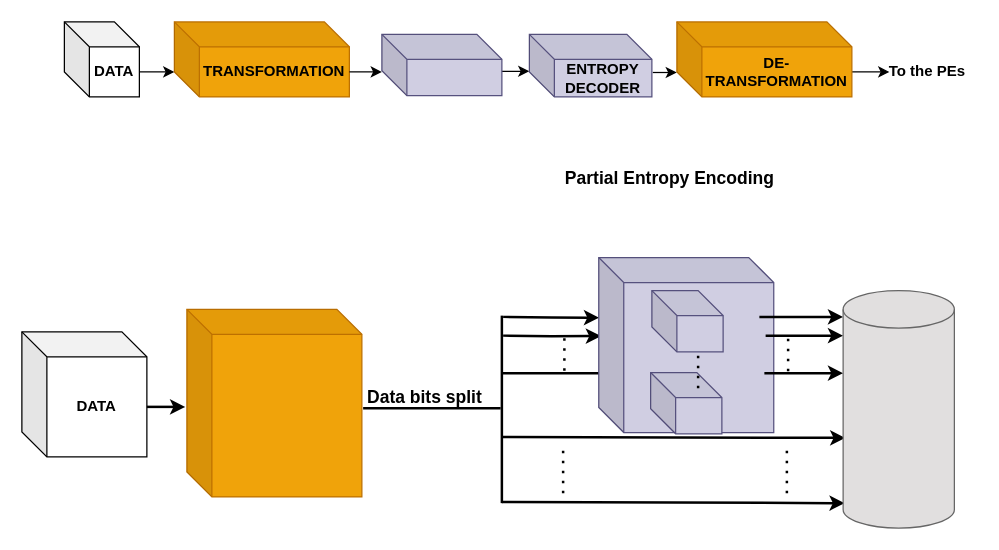
The diagram is 999 pixels wide and 550 high, and some of its shapes have lost their labels. Here are the shapes that lost their labels. From the top down, the box of each, then its label:
(381, 33, 502, 96): ENTROPY ENCODER
(186, 308, 362, 497): LOW POWER TRANSFORMATION
(842, 289, 954, 528): MEMORY
